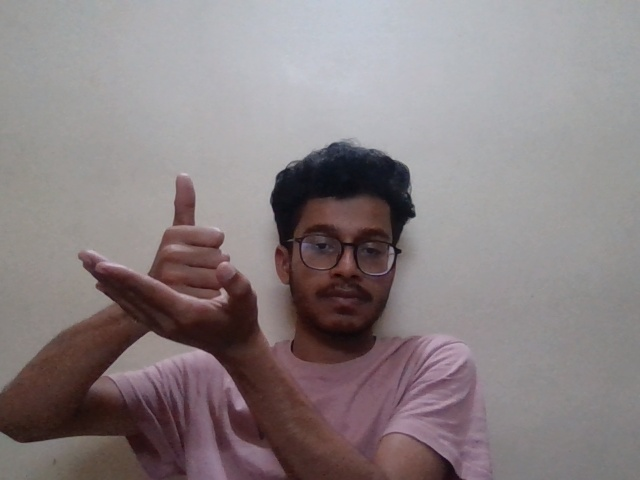help: (70, 163, 291, 372)
